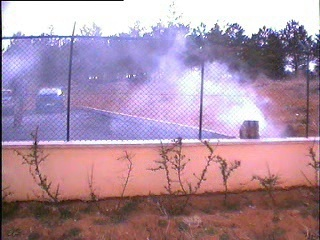smoke: (121, 31, 279, 139)
